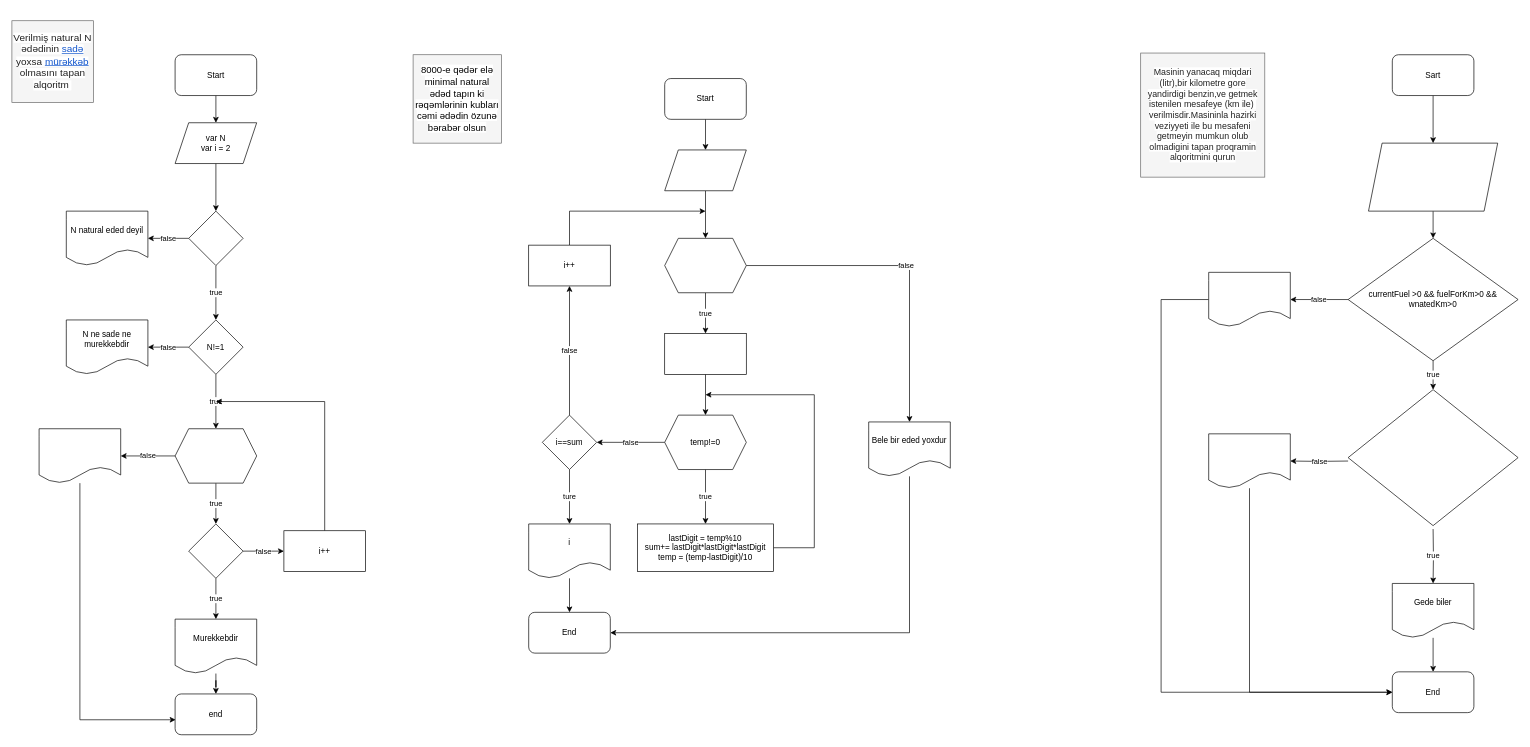
Some shapes in this 1530 by 747 pixel diagram are drawn without their labels. Here are the shapes that lost their labels. From the top down, the centre of each, then its label:
the point at 705,170: var i=1 var sum=0 var lastDigit var temp
the point at 1433,176: var currentFuel var fuelForFm, var wantedKm
the point at 215,238: N>0
the point at 705,265: i<8000
the point at 1249,299: Deyerler 0-dan boyuk olmalidir
the point at 705,353: temp = i sum = 0
the point at 79,455: Sadedir
the point at 215,455: i<N
the point at 1249,460: Gede bilmez
the point at 1432,457: currentFuel/furelForKm>=wantedKm
the point at 215,550: N%i==0
